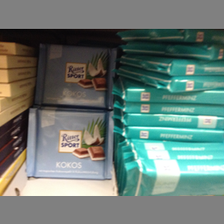chocolate: (25, 108, 111, 181), (32, 43, 115, 109)
